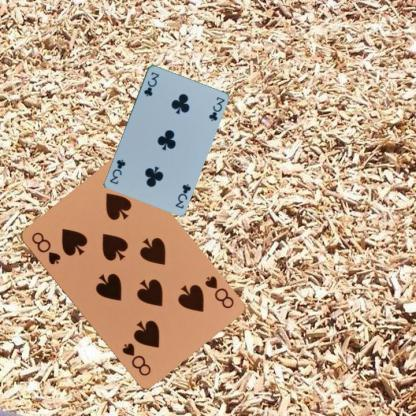3c: (172, 181, 192, 210), (141, 69, 160, 98)
8s: (28, 229, 62, 266), (201, 273, 235, 310)
